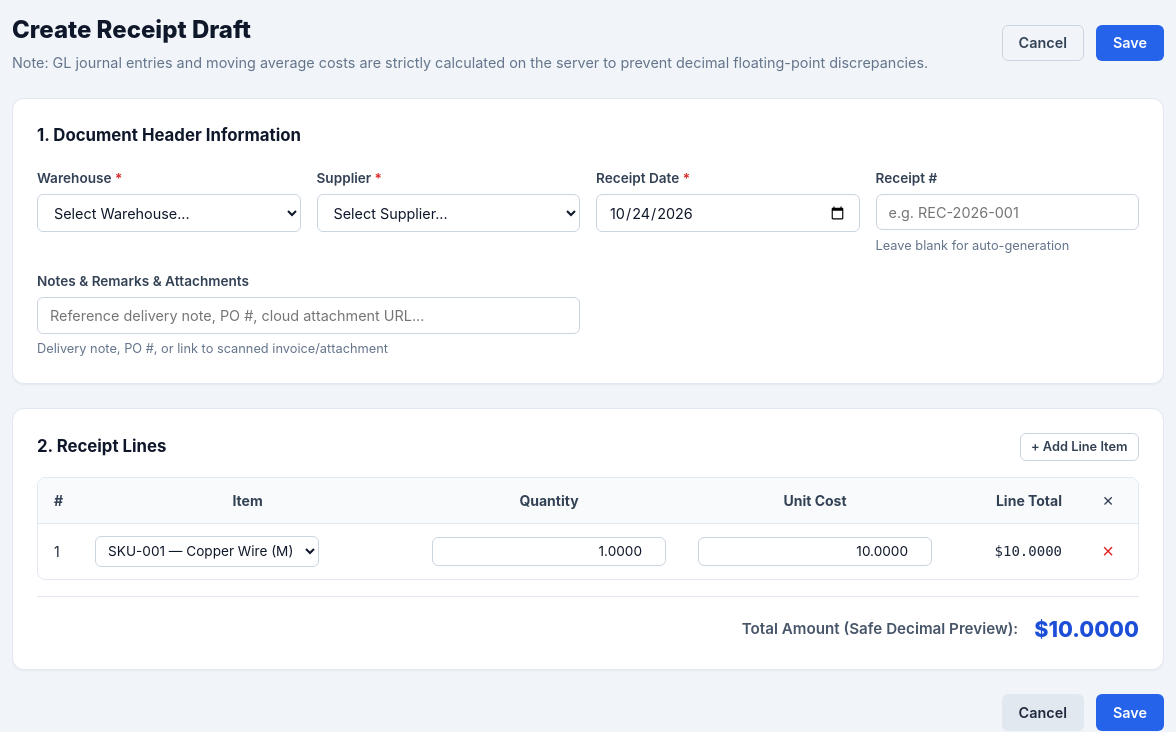
it: Receipt Workflows & Components › ReceiptForm (Create & Edit) › validates and adds dynamic receipt lines
The width and height of the screenshot is (1176, 732).
Add a second line
Click the button "+ Add Line Item" at [1079, 447], box [1020,432,1139,461]
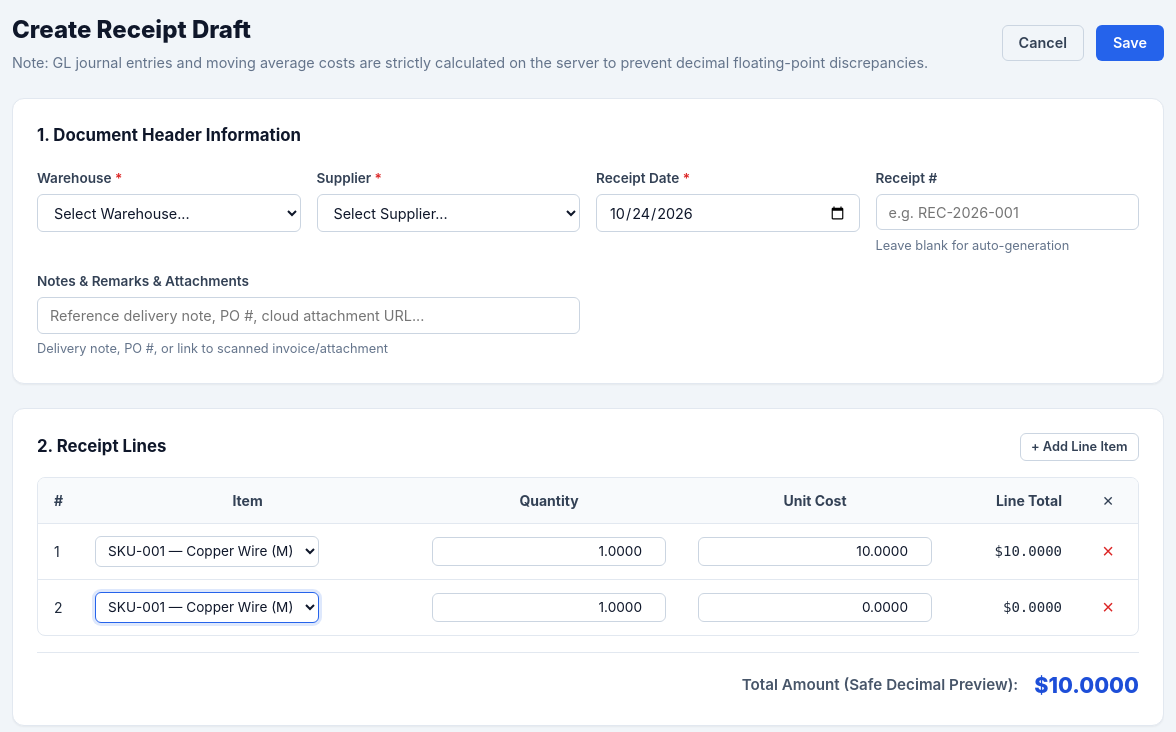
Check: the number of buttons titled "Remove" is 2, box [1096,537,1120,566]; [1096,593,1120,622]
